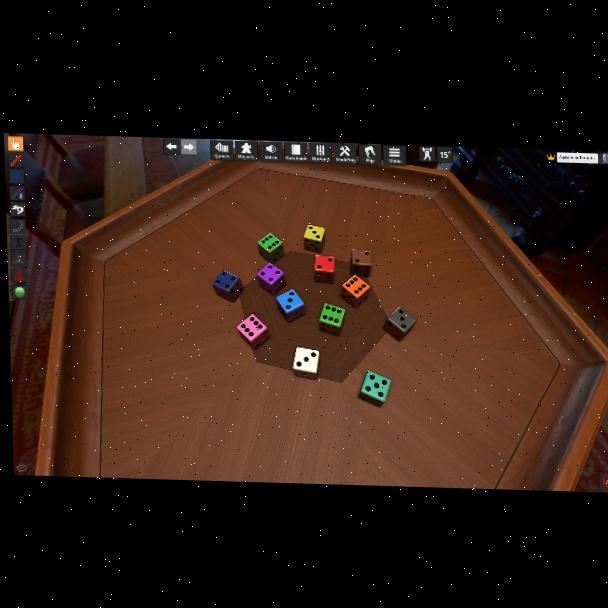d6: (357, 368, 391, 405), (236, 314, 270, 350), (383, 306, 415, 342), (212, 270, 243, 303), (341, 273, 371, 307), (275, 289, 304, 324), (256, 262, 286, 295), (318, 303, 345, 336), (255, 233, 283, 264), (292, 347, 319, 379), (302, 224, 325, 254), (313, 255, 334, 284), (350, 249, 371, 278)
